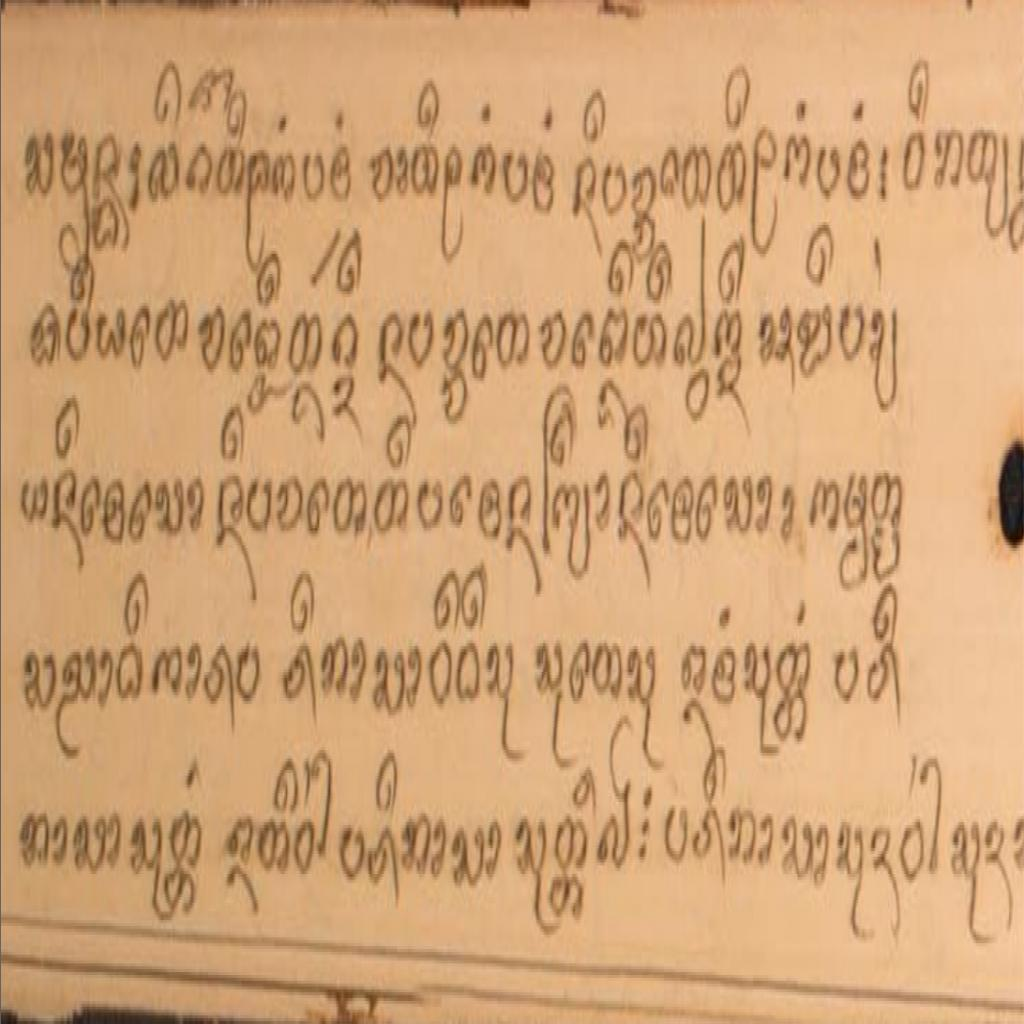LN030: (727, 802, 759, 873)
